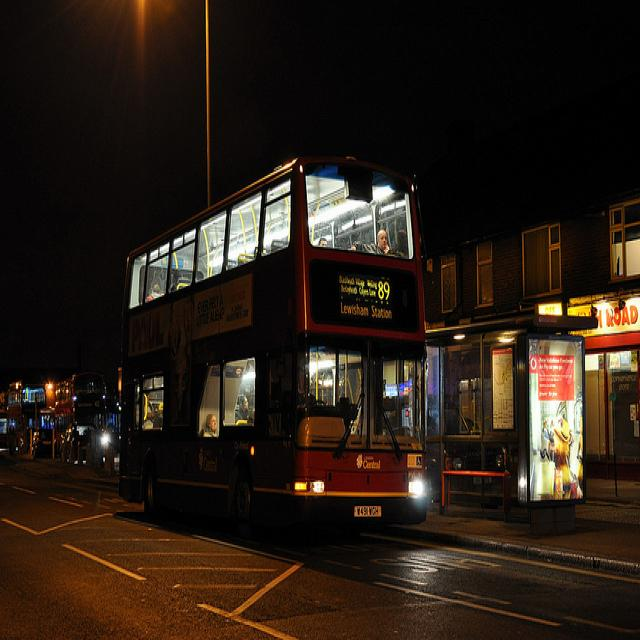Bus: (110, 170, 446, 574)
People: (367, 193, 416, 288)
